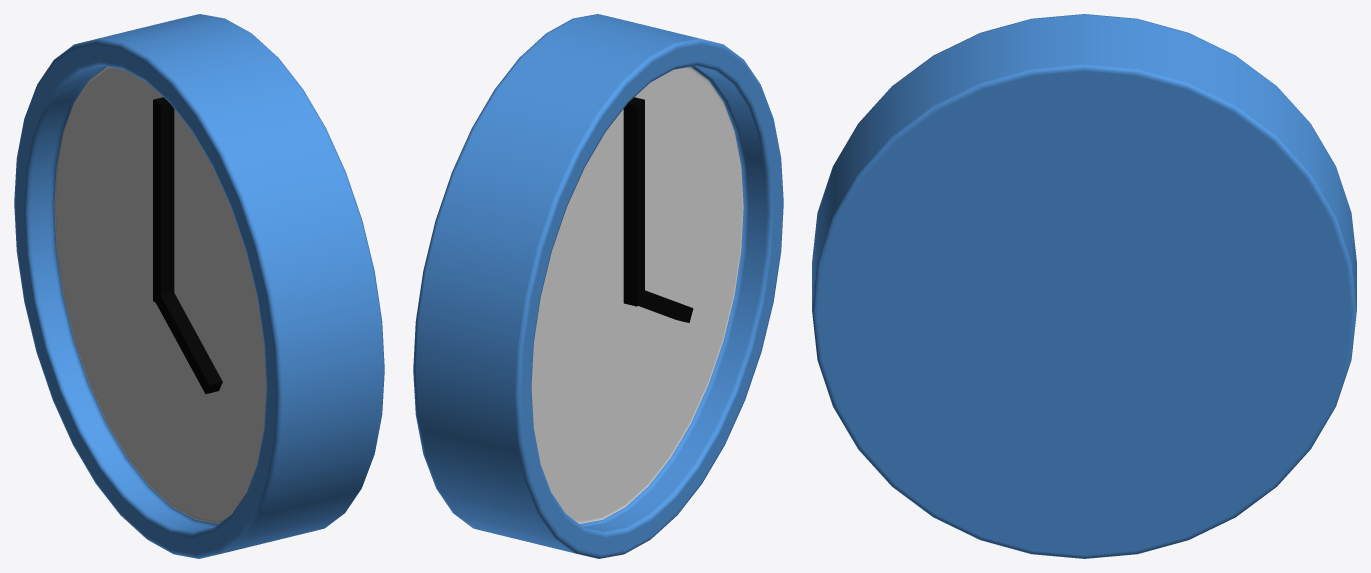
Rendered from Clock.fbx.
3 views of the same model, side by side, from view 1: azimuth 30°, elevation 25°; view 2: azimuth 150°, elevation 25°; view 3: azimuth 270°, elevation 25° (orthographic). The views are drawn at different scales.
Visible parts, largest first — view 1: Clock; view 2: Clock; view 3: Clock.
Boxes of the visible parts, x1,y1,x2,y2 form: Clock: [14, 14, 384, 558]; Clock: [413, 14, 783, 558]; Clock: [812, 14, 1356, 558].
Bounding box in the file's own units: 46.47 × 200 × 200.
